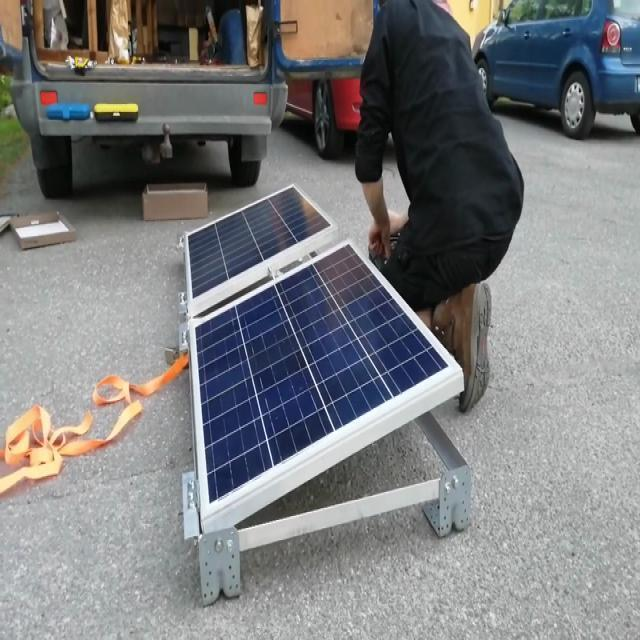Normal Solar Panel: (191, 242, 459, 518), (185, 185, 334, 305)
